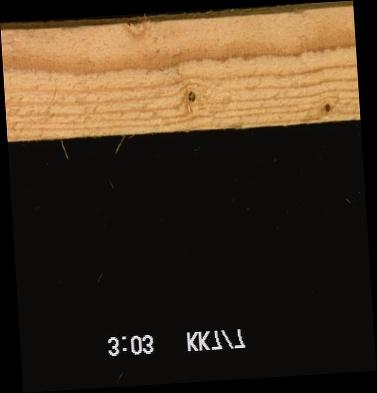edge_knot: (122, 16, 147, 41)
small_knot: (185, 89, 195, 102), (322, 102, 330, 113)
